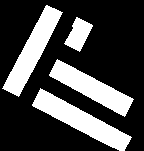parkingspot: (32, 88, 131, 151), (2, 5, 62, 96), (49, 59, 133, 116), (64, 17, 92, 51)
